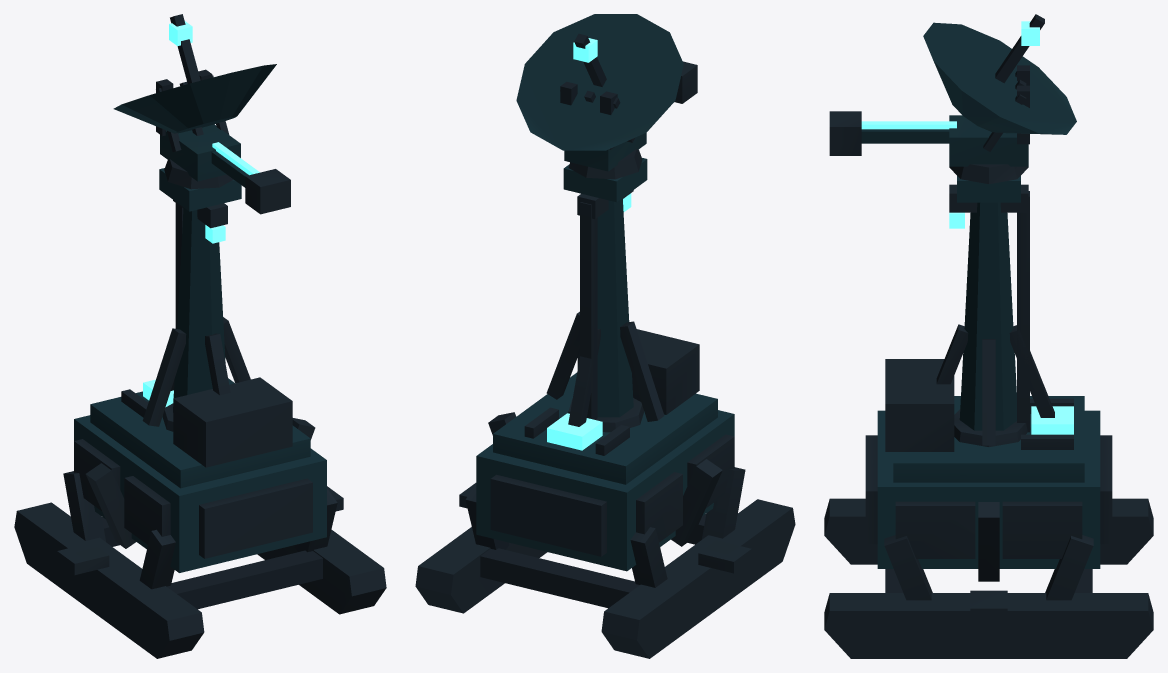
The model's file is radar.glb.
3 renders of one model, left to right at view 1: azimuth 30°, elevation 25°; view 2: azimuth 150°, elevation 25°; view 3: azimuth 270°, elevation 25°, orthographic. The views are drawn at different scales.
Parts seen in each view (by area): view 1: radar_base, radar_dish; view 2: radar_base, radar_dish; view 3: radar_base, radar_dish.
Part boxes in pixels (x1=…): radar_base: x1=14, y1=168, x2=386, y2=658; radar_dish: x1=113, y1=14, x2=290, y2=214; radar_base: x1=415, y1=158, x2=795, y2=658; radar_dish: x1=516, y1=14, x2=697, y2=179; radar_base: x1=824, y1=176, x2=1153, y2=658; radar_dish: x1=829, y1=14, x2=1076, y2=183.
Bounding box in the file's own units: 1.24 × 2.44 × 1.24.
